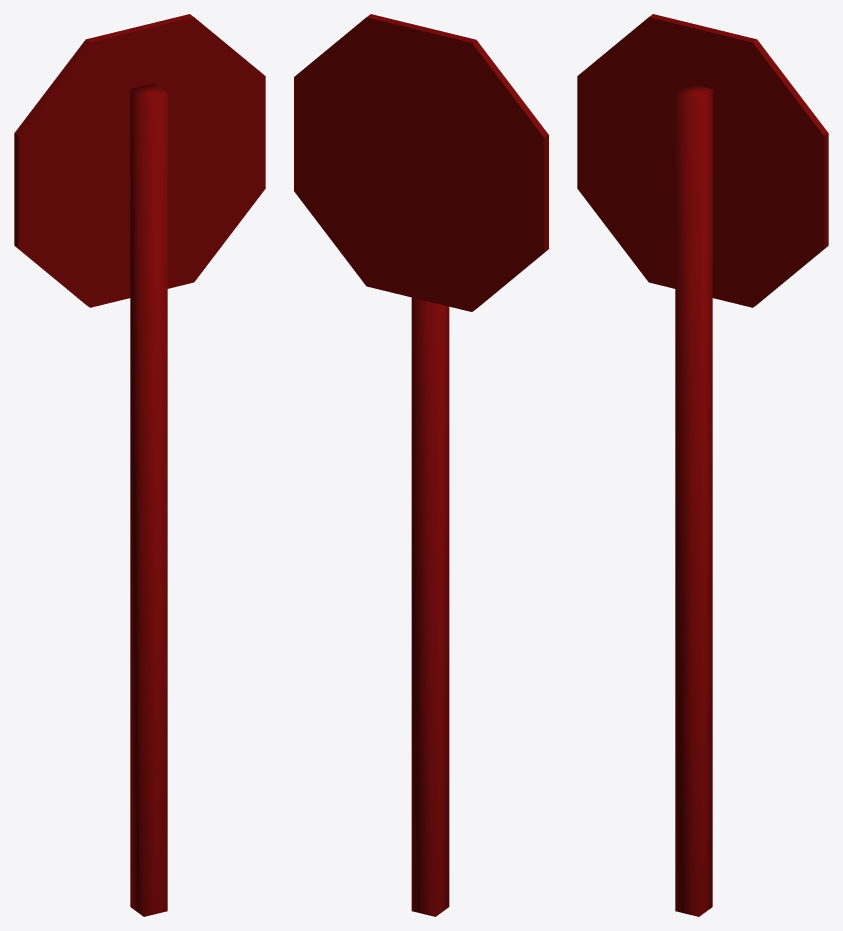
The model's file is StopPost.DAE.
3 views of the same model, side by side, from view 1: azimuth 30°, elevation 25°; view 2: azimuth 150°, elevation 25°; view 3: azimuth 330°, elevation 25° (orthographic).
Visible parts, largest first — view 1: StopPost; view 2: StopPost; view 3: StopPost.
Part boxes in pixels (<box>): StopPost: <box>14,14,265,916</box>; StopPost: <box>294,14,548,916</box>; StopPost: <box>577,14,828,916</box>.
Size of the model in its own units: 0.8721 by 2.95 by 0.11.
